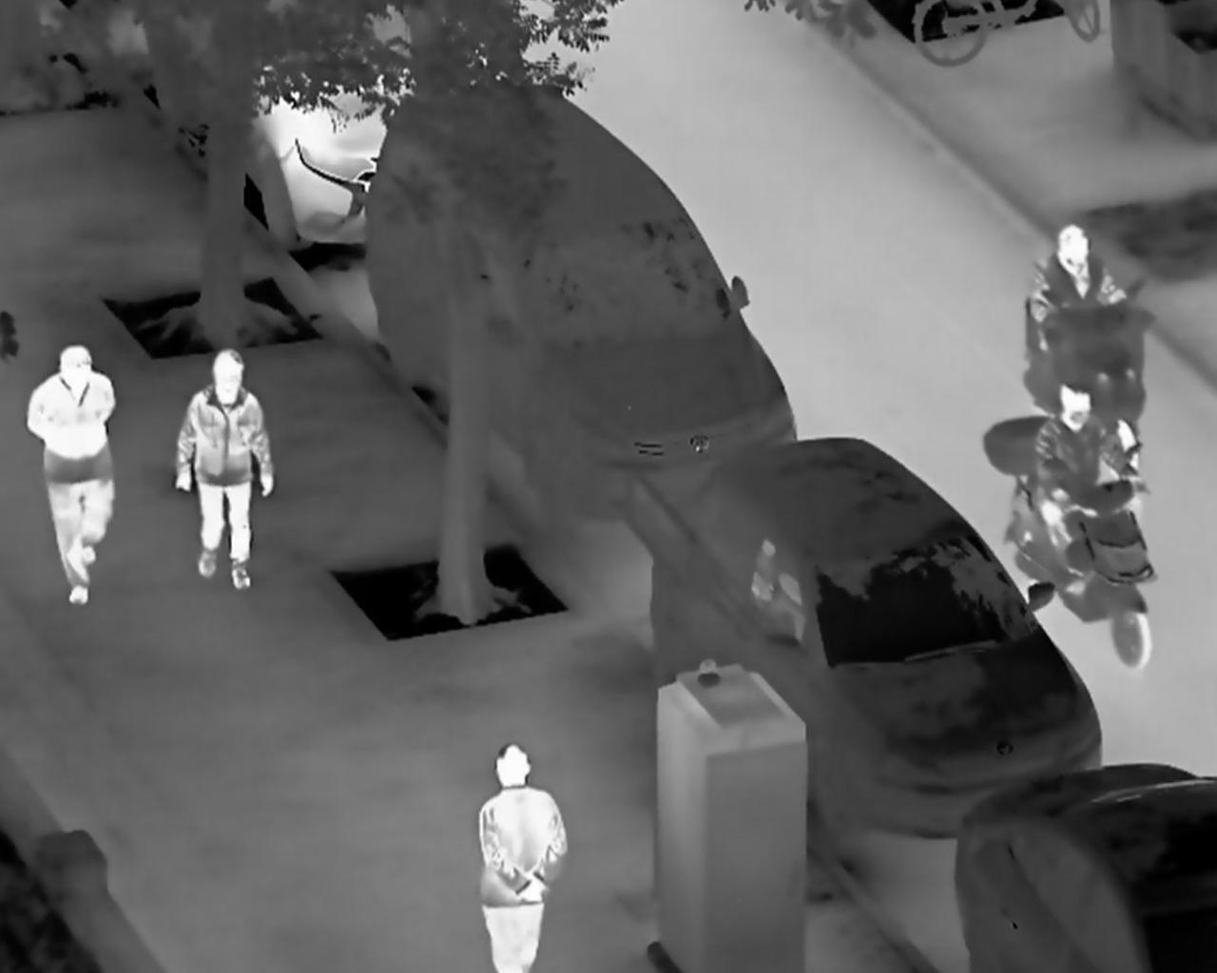person: (170, 348, 277, 591), (1033, 378, 1147, 604), (27, 343, 119, 608), (476, 741, 571, 973), (1028, 224, 1136, 361)
